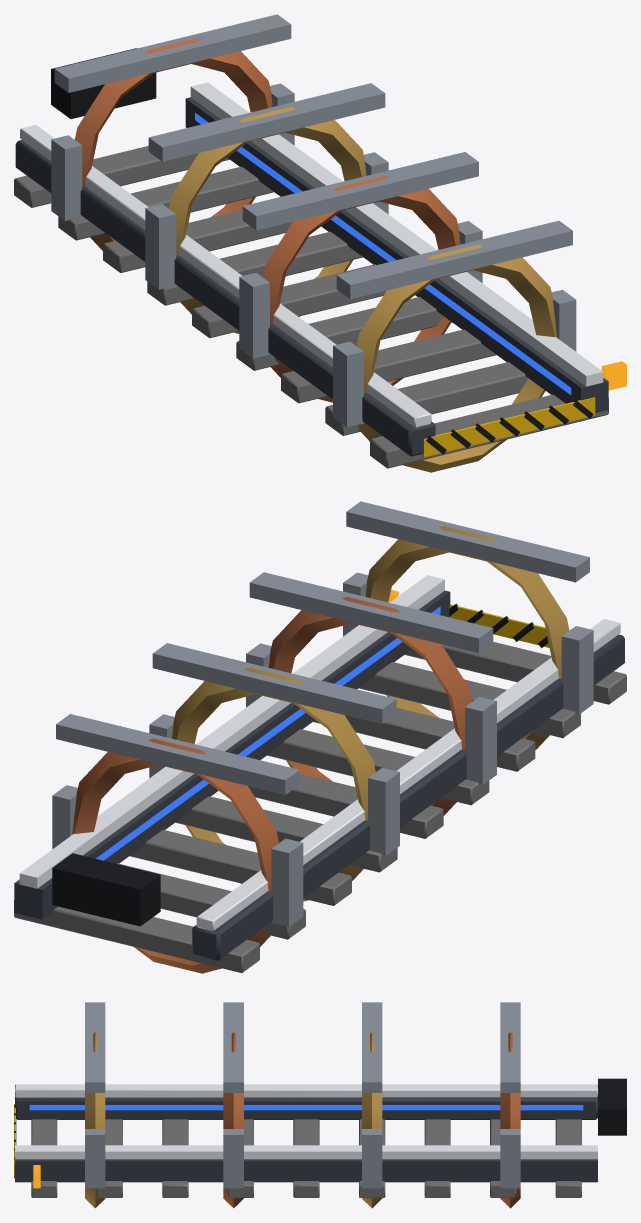
The model's file is hangartool_launch_rail_segment.glb.
The picture shows the model from 3 angles, top to bottom: view 1: azimuth 30°, elevation 25°; view 2: azimuth 150°, elevation 25°; view 3: azimuth 270°, elevation 25°; orthographic projection. The views are drawn at different scales.
Visible parts, largest first — view 1: hangartool_launch_rail_segment; view 2: hangartool_launch_rail_segment; view 3: hangartool_launch_rail_segment.
Part boxes in pixels (x1=…): hangartool_launch_rail_segment: x1=14, y1=14, x2=626, y2=472; hangartool_launch_rail_segment: x1=14, y1=501, x2=626, y2=973; hangartool_launch_rail_segment: x1=14, y1=1002, x2=626, y2=1208.
Size of the model in its own units: 1.43 by 1.21 by 4.21.
